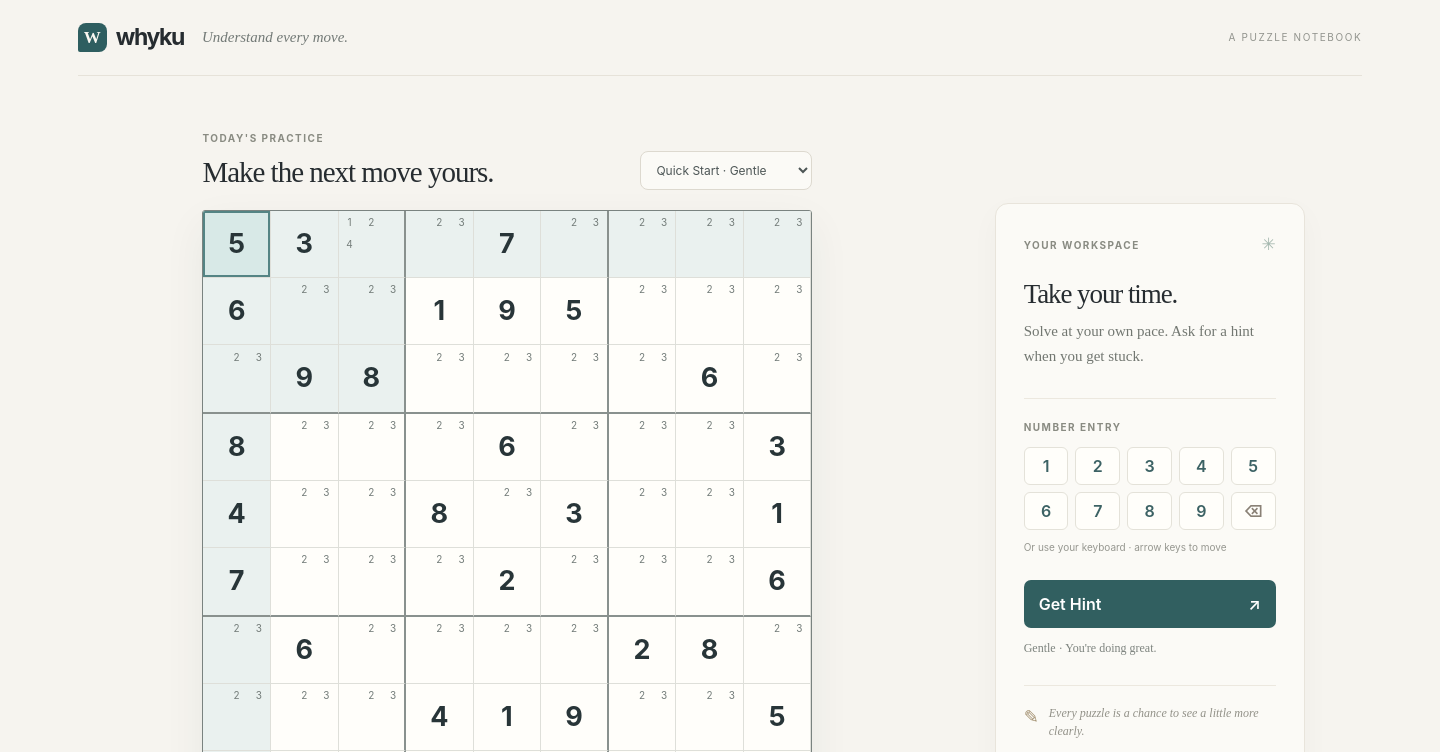
playable grid › renders a backend solution-mismatch warning without computing correctness in the UI
Step 1. Click the cell named "row 1, column 3, empty" → (372, 244), box [338,211,406,278]
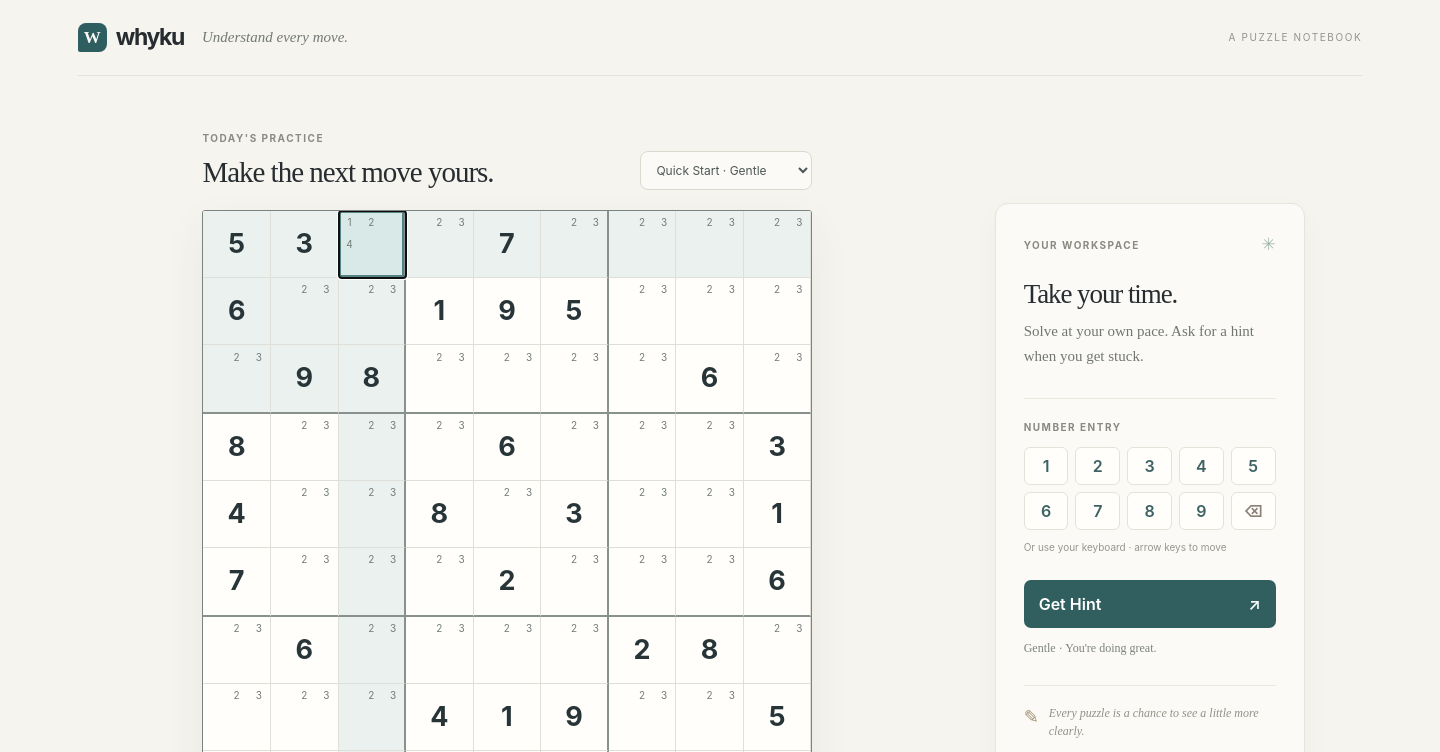
Step 2. Type keys "1"
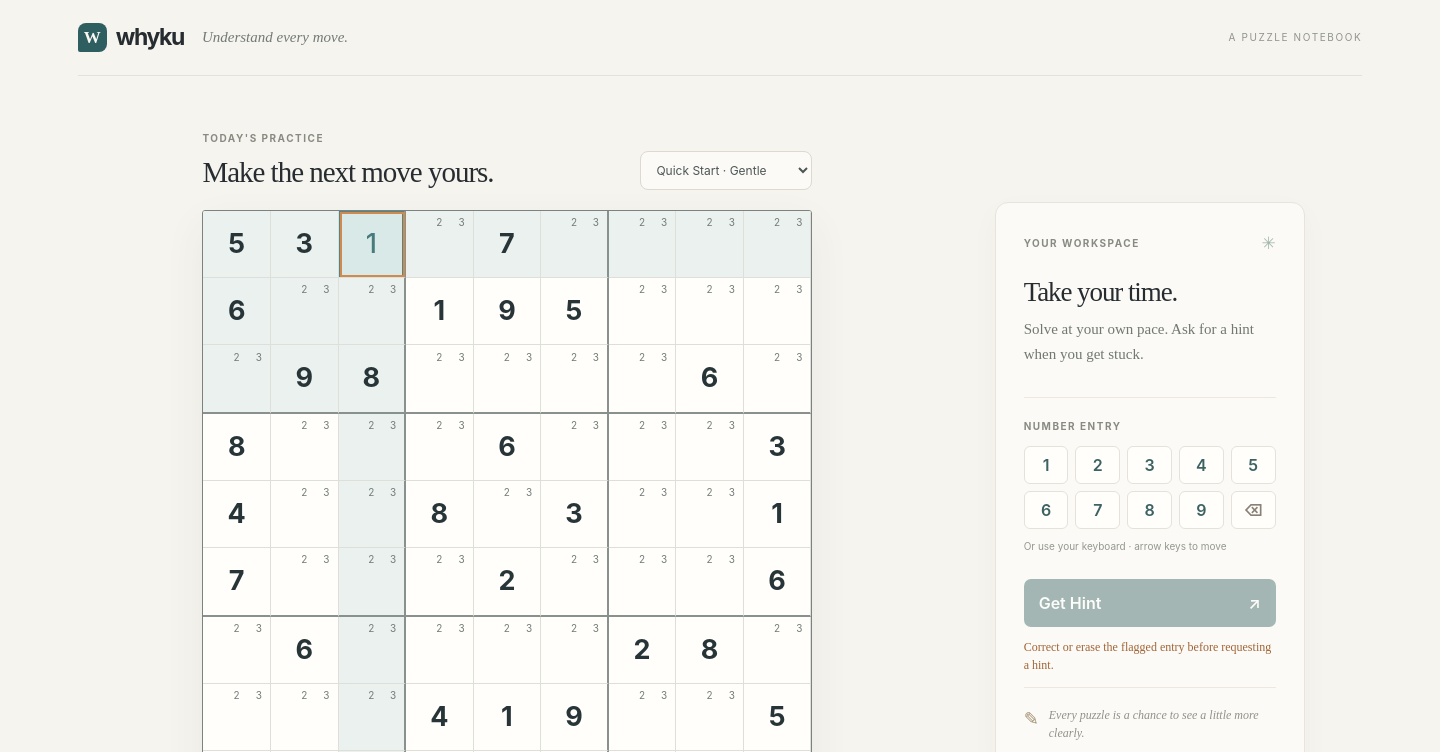
expect the text "Correct or erase the flagged entry before requesting a hint." is shown: met, box [1024,638,1276,674]
expect the button "Get Hint ↗" is disabled: met, box [1024,579,1276,627]
